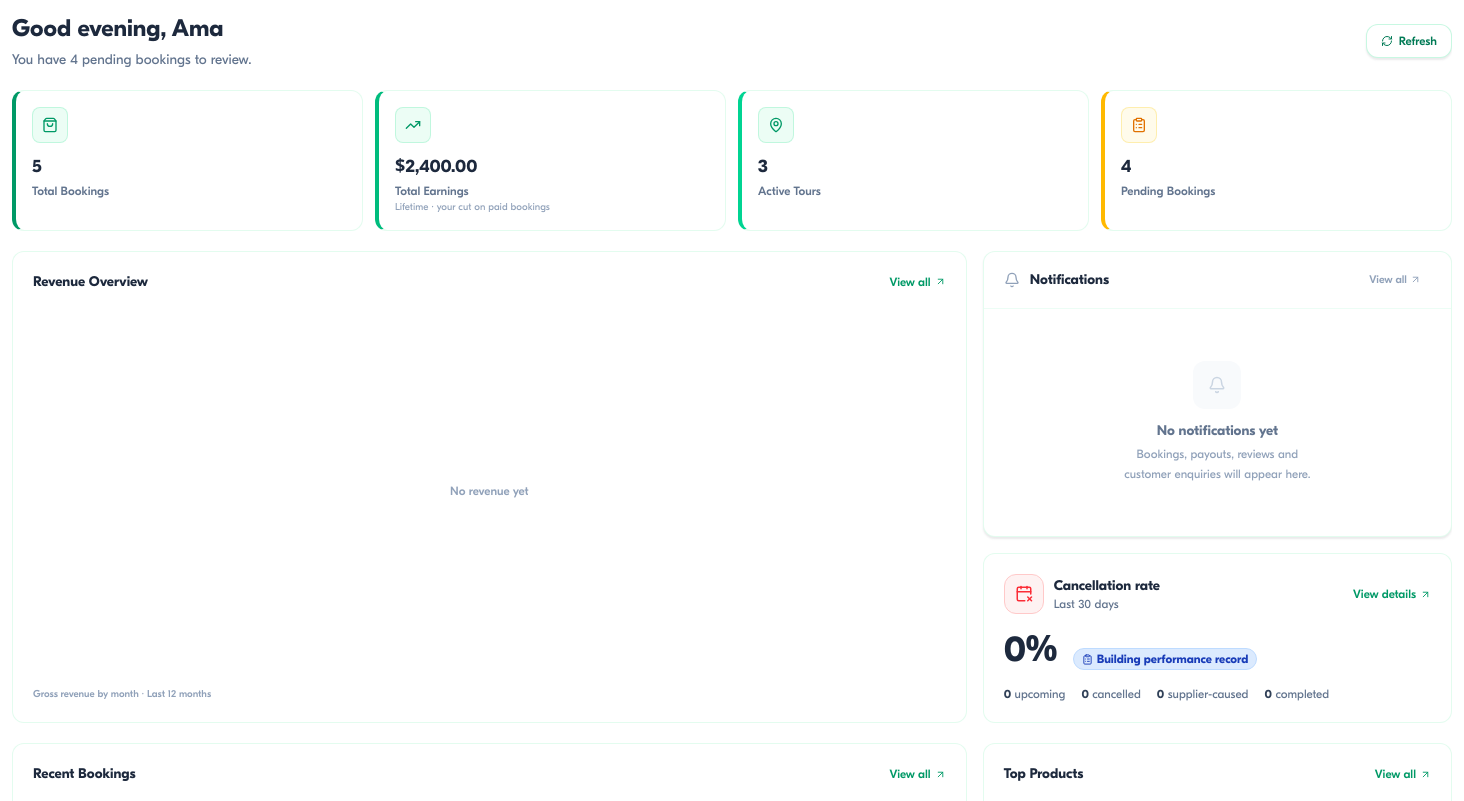
Test: once the numbers are in › keeps the last-known number when a manual refresh fails
Expected: the text "You have 4 pending bookings to review." is shown, [12, 50, 251, 70]
Click the button "Refresh" at {"x": 1409, "y": 41}, box [1366, 24, 1452, 58]
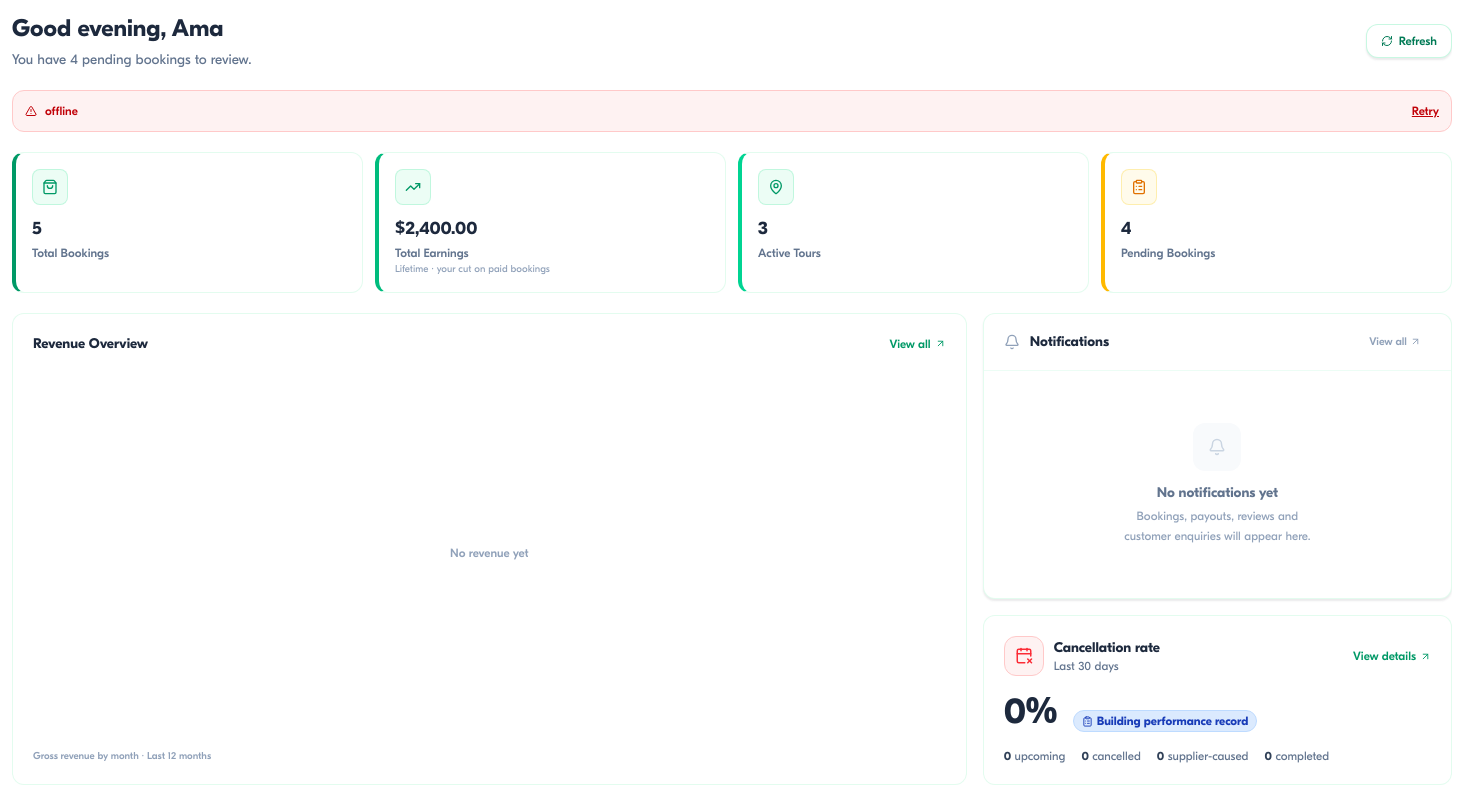
Expected: the text "You have 4 pending bookings to review." is shown, [12, 50, 251, 70]
Expected: the text "offline" is shown, [45, 104, 78, 118]
